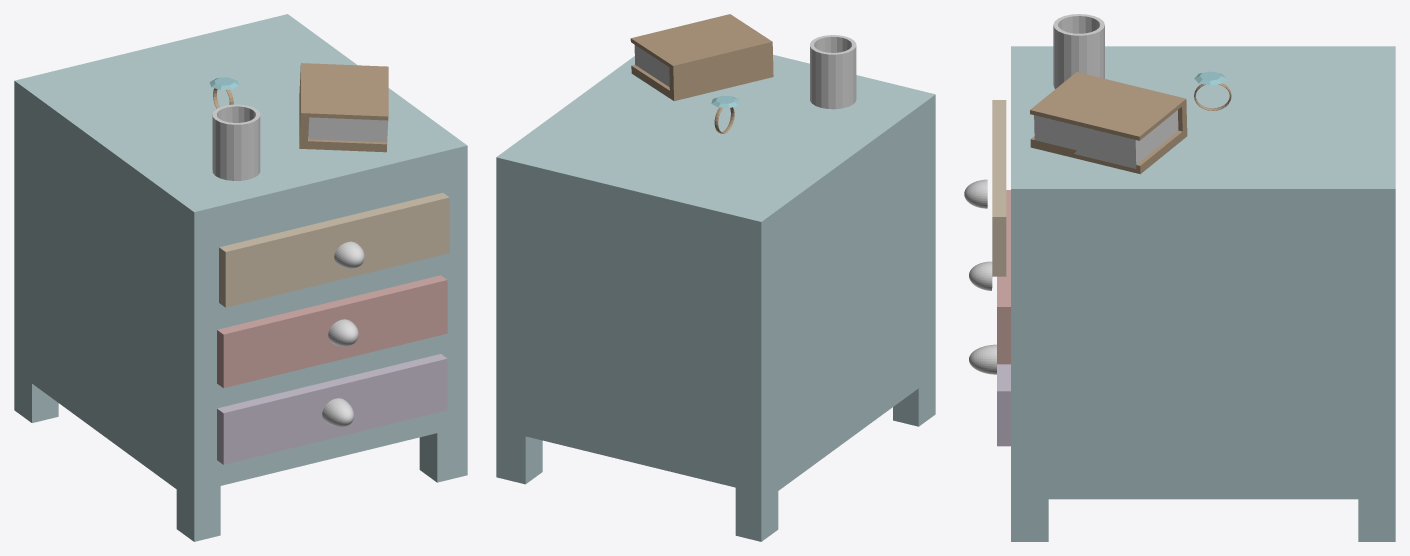
The model's file is pro 149.glb.
The picture shows the model from 3 angles, left to right: view 1: azimuth 30°, elevation 25°; view 2: azimuth 150°, elevation 25°; view 3: azimuth 270°, elevation 25°; orthographic projection. The views are drawn at different scales.
Parts seen in each view (by area): view 1: Mesh_Mesh_head_geo.001_lambert2SG.001; view 2: Mesh_Mesh_head_geo.001_lambert2SG.001; view 3: Mesh_Mesh_head_geo.001_lambert2SG.001.
Part boxes in pixels (x1,y1,x2,y2): Mesh_Mesh_head_geo.001_lambert2SG.001: (14,14,467,541); Mesh_Mesh_head_geo.001_lambert2SG.001: (496,14,935,541); Mesh_Mesh_head_geo.001_lambert2SG.001: (964,14,1395,541).
Size of the model in its own units: 72 by 97.15 by 92.
